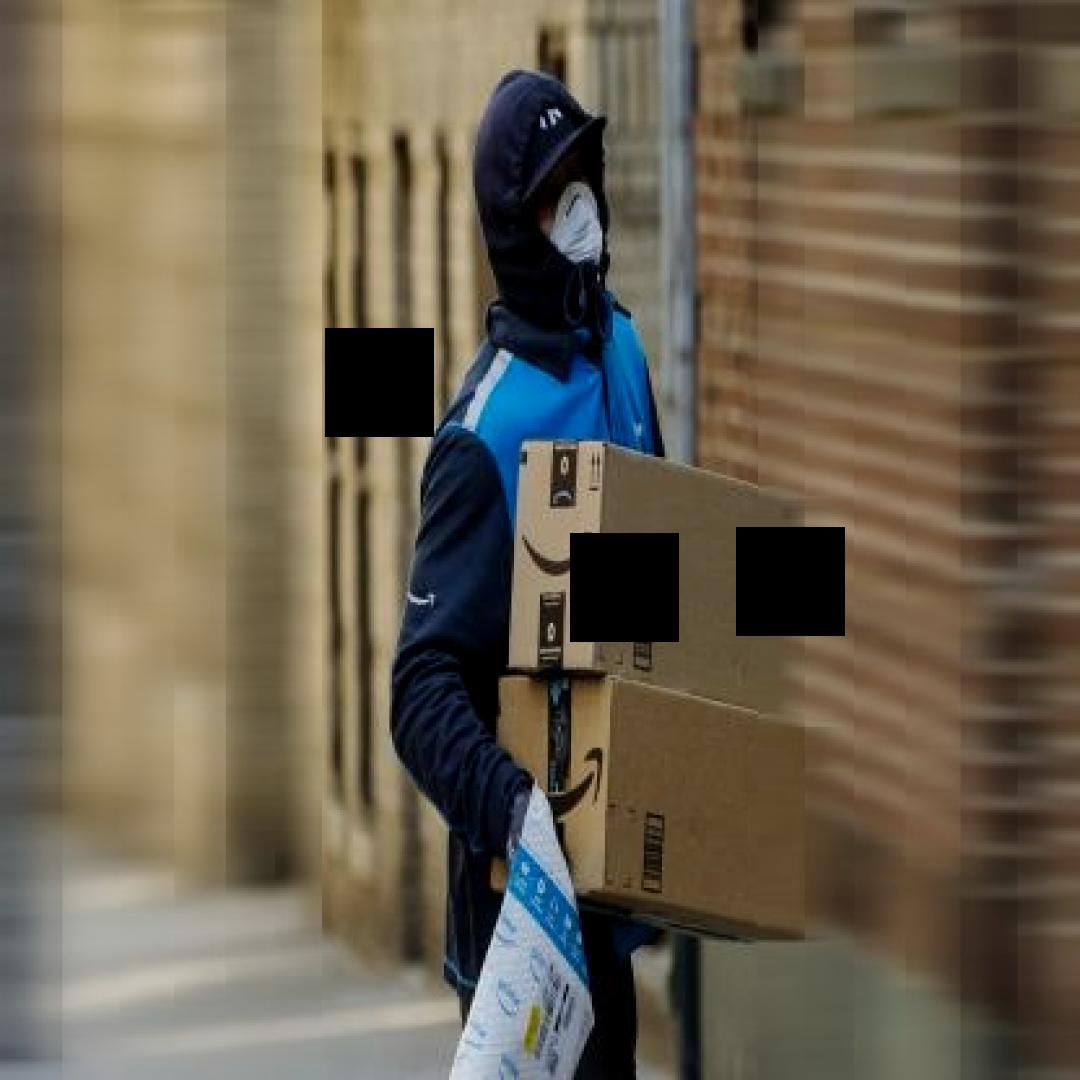package: (490, 675, 824, 950), (501, 431, 810, 727)
